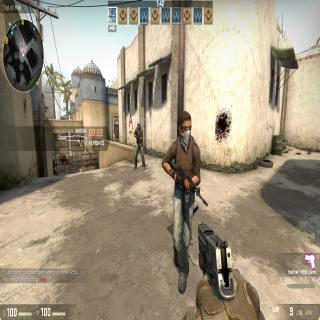T-Body: (162, 106, 200, 290), (132, 118, 146, 167)
T-Head: (177, 109, 193, 142), (136, 121, 141, 130)
